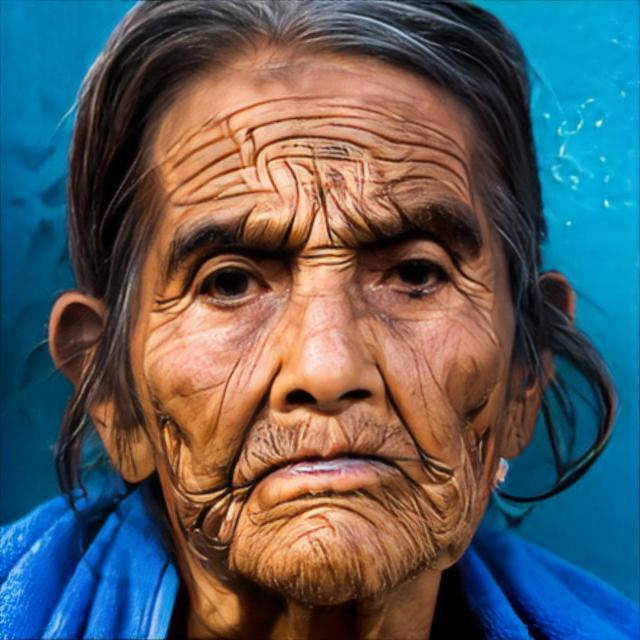sad: (127, 53, 514, 608)
